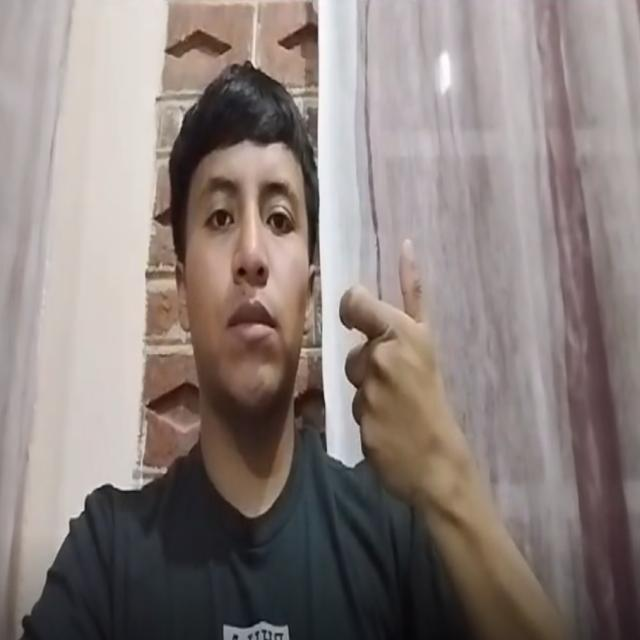X: (317, 226, 471, 508)
